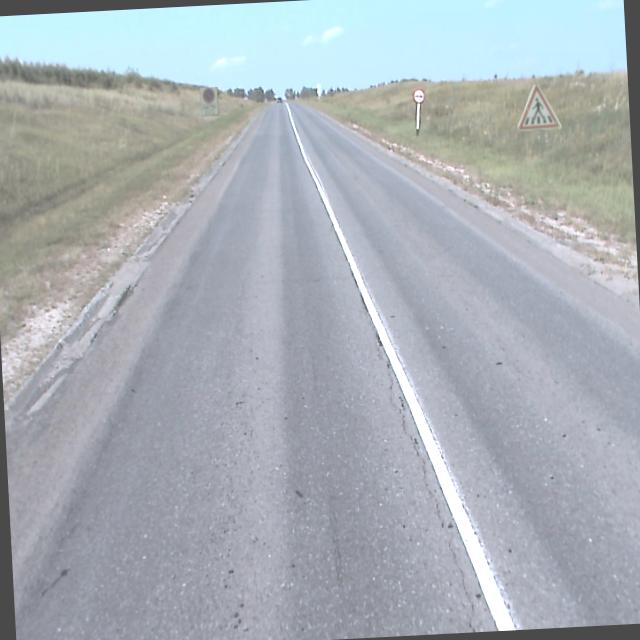road: (5, 101, 640, 640)
